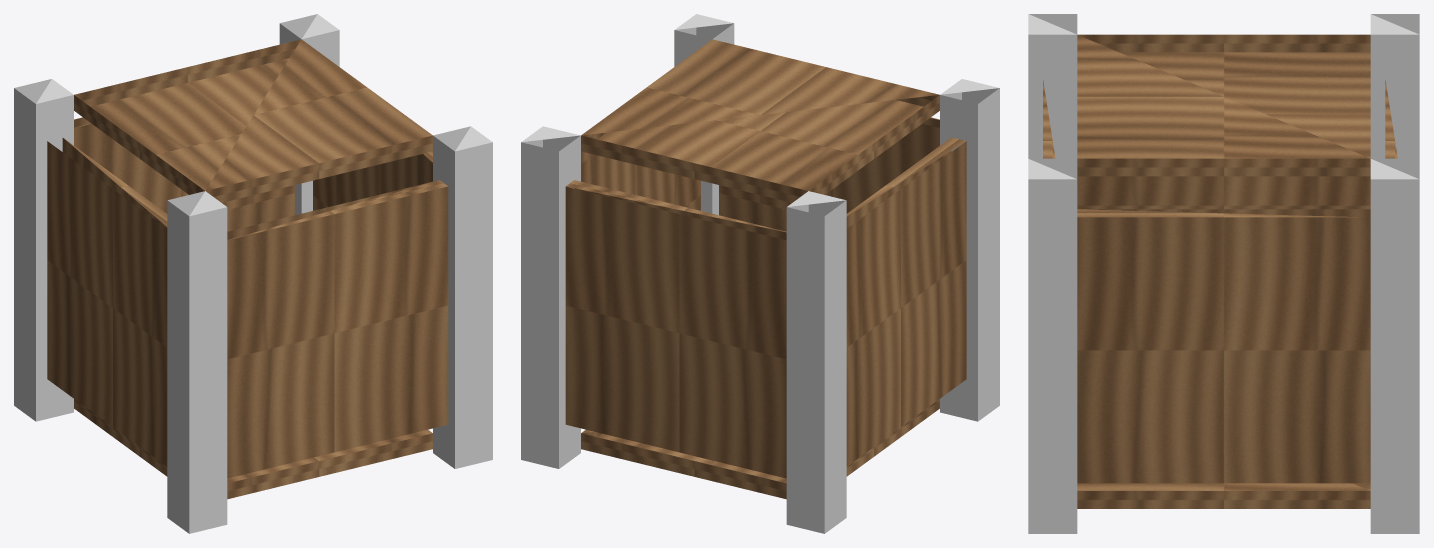
The model's file is Crate_Western_Wooden.fbx.
3 renders of one model, left to right at view 1: azimuth 30°, elevation 25°; view 2: azimuth 150°, elevation 25°; view 3: azimuth 270°, elevation 25°, orthographic. The views are drawn at different scales.
Parts seen in each view (by area): view 1: Crate_Western_Wooden_Panel_Back, Crate_Western_Wooden, Crate_Western_Wooden_Panel_Top, Crate_Western_Wooden_Panel_Left, Crate_Western_Wooden_Panel_Front, Crate_Western_Wooden_Panel_Bottom, Crate_Western_Wooden_Panel_Right; view 2: Crate_Western_Wooden_Panel_Front, Crate_Western_Wooden, Crate_Western_Wooden_Panel_Top, Crate_Western_Wooden_Panel_Left, Crate_Western_Wooden_Panel_Back, Crate_Western_Wooden_Panel_Bottom, Crate_Western_Wooden_Panel_Right; view 3: Crate_Western_Wooden_Panel_Right, Crate_Western_Wooden, Crate_Western_Wooden_Panel_Top, Crate_Western_Wooden_Panel_Left, Crate_Western_Wooden_Panel_Bottom, Crate_Western_Wooden_Panel_Front, Crate_Western_Wooden_Panel_Back.
Boxes of the visible parts, x1,y1,x2,y2 form: Crate_Western_Wooden_Panel_Back: (227, 180, 448, 478); Crate_Western_Wooden: (14, 14, 492, 533); Crate_Western_Wooden_Panel_Top: (74, 39, 432, 202); Crate_Western_Wooden_Panel_Left: (47, 138, 167, 466); Crate_Western_Wooden_Panel_Front: (74, 117, 294, 231); Crate_Western_Wooden_Panel_Bottom: (74, 399, 432, 499); Crate_Western_Wooden_Panel_Right: (313, 151, 432, 210); Crate_Western_Wooden_Panel_Front: (565, 180, 786, 478); Crate_Western_Wooden: (521, 14, 999, 533); Crate_Western_Wooden_Panel_Top: (581, 39, 939, 202); Crate_Western_Wooden_Panel_Left: (846, 137, 966, 466); Crate_Western_Wooden_Panel_Back: (719, 117, 939, 231); Crate_Western_Wooden_Panel_Bottom: (581, 399, 939, 499); Crate_Western_Wooden_Panel_Right: (581, 151, 700, 210); Crate_Western_Wooden_Panel_Right: (1077, 209, 1370, 483); Crate_Western_Wooden: (1028, 14, 1419, 533); Crate_Western_Wooden_Panel_Top: (1077, 34, 1370, 176); Crate_Western_Wooden_Panel_Left: (1077, 176, 1370, 209); Crate_Western_Wooden_Panel_Bottom: (1077, 483, 1370, 508); Crate_Western_Wooden_Panel_Front: (1385, 80, 1397, 158); Crate_Western_Wooden_Panel_Back: (1043, 80, 1055, 158).
Size of the model in its own units: 0.8 by 0.8 by 0.8.
2 materials, 1 textured.
